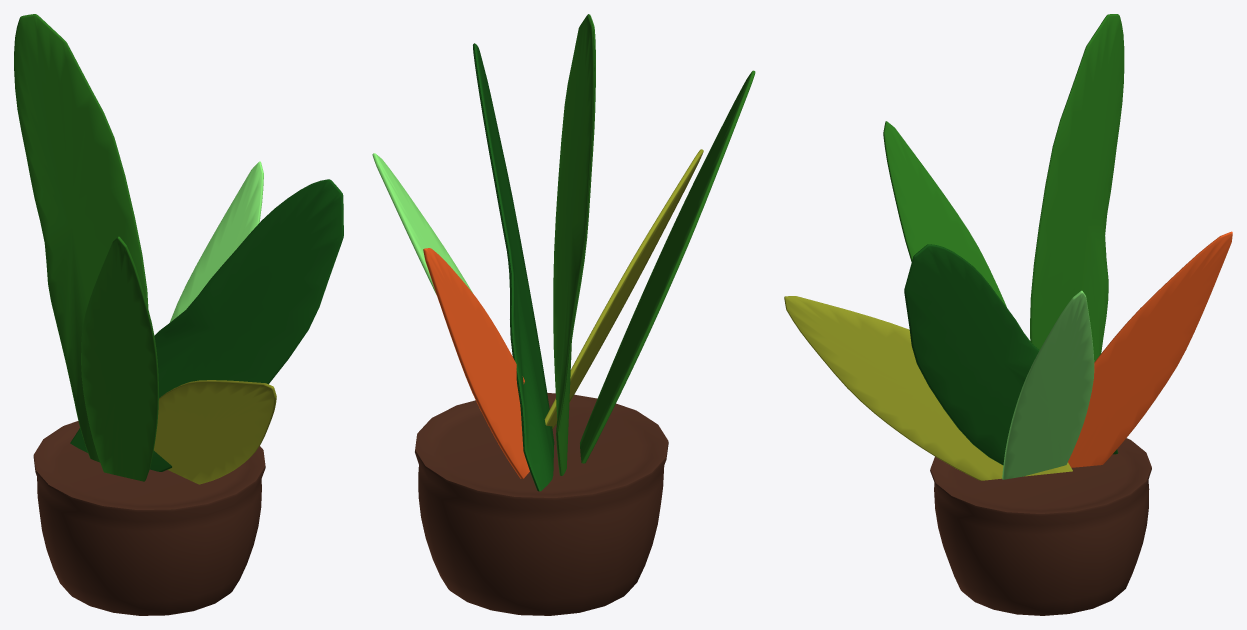
Rendered from Planta_Larga.fbx.
The picture shows the model from 3 angles, left to right: view 1: azimuth 30°, elevation 25°; view 2: azimuth 150°, elevation 25°; view 3: azimuth 270°, elevation 25°; orthographic projection. The views are drawn at different scales.
Visible parts, largest first — view 1: Cylinder022; view 2: Cylinder022; view 3: Cylinder022.
Boxes of the visible parts, x1,y1,x2,y2 form: Cylinder022: (14, 14, 343, 615); Cylinder022: (372, 14, 755, 615); Cylinder022: (784, 14, 1232, 615).
Bounding box in the file's own units: 39.26 × 84.82 × 64.9.
